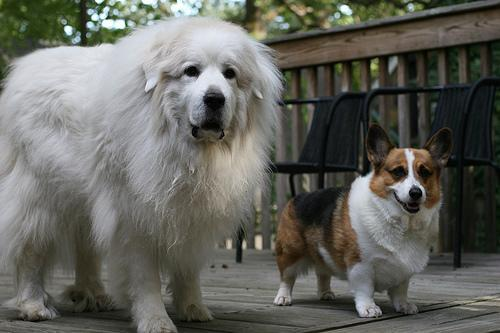Great_Pyrenees: (1, 14, 283, 332)
